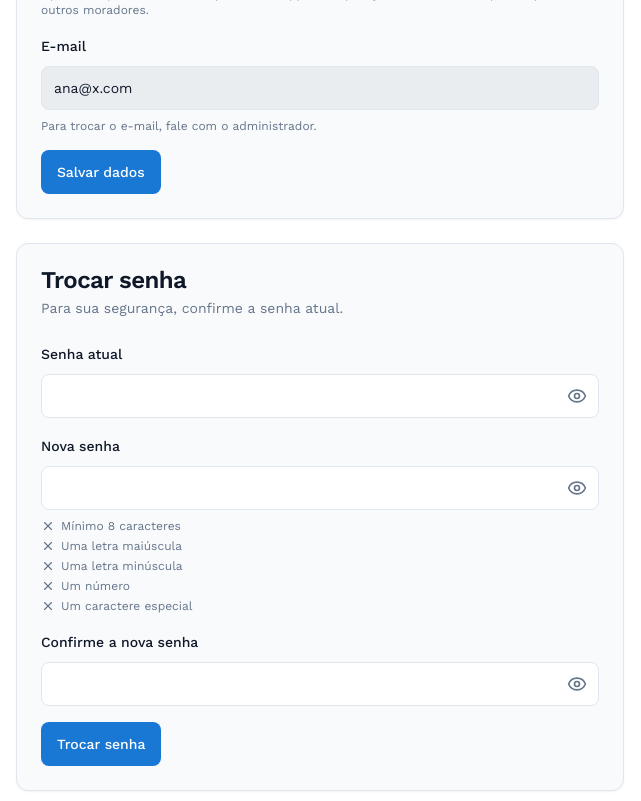
Scenario: MyProfilePage — trocar senha › não envia quando a confirmação não confere
(page scrolled)
Type "Atual@123" into the password field labelled "Senha atual". click: (320,396)
box: [41,374,599,418]
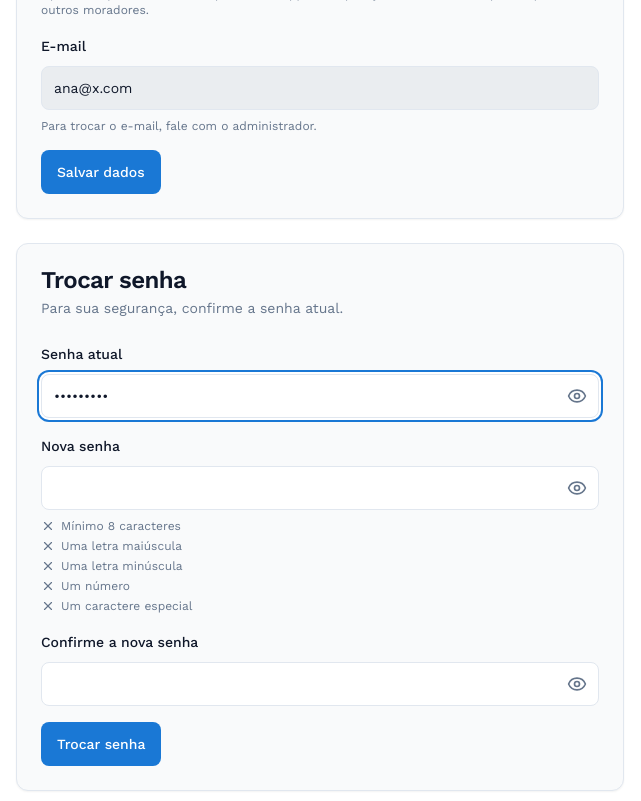
Type "Nova@Senha123" into the password field labelled "Nova senha". click: (320,488)
box: [41,466,599,510]
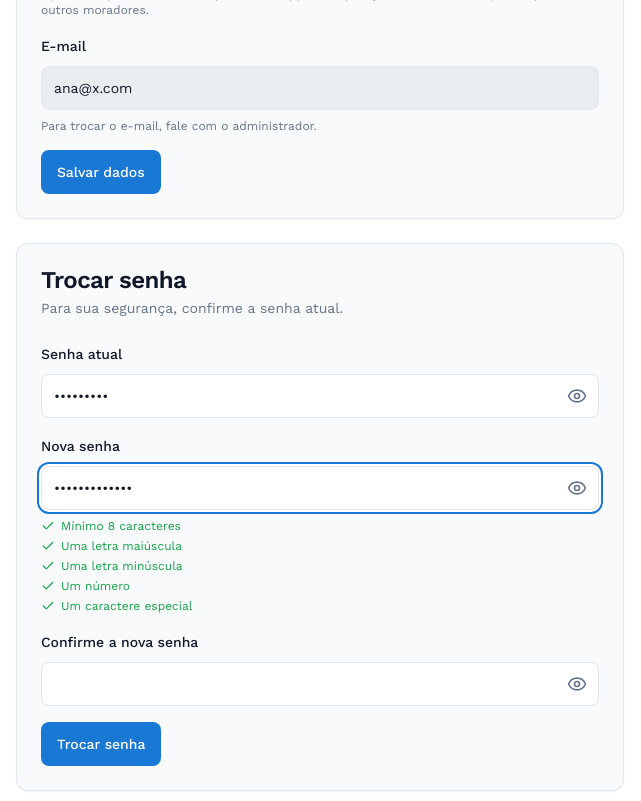
Type "Outra@Senha123" into the password field labelled "Confirme a nova senha". click: (320,684)
box: [41,662,599,706]
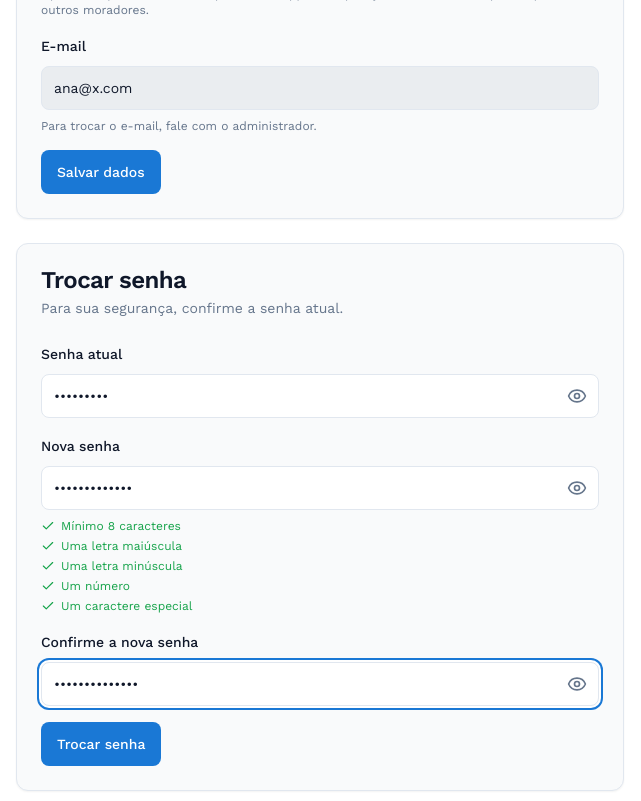
Click the button "Trocar senha". click: (101,744)
box: [41,722,161,766]
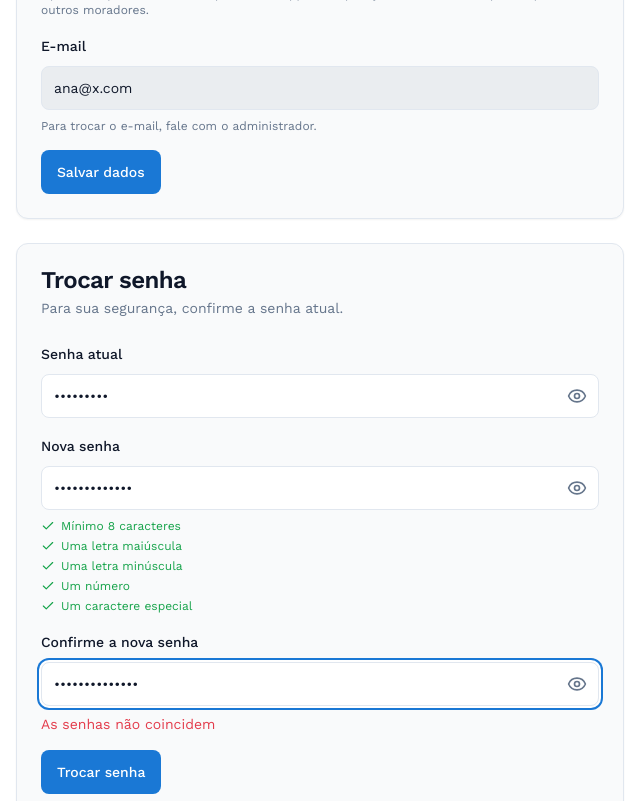
Check: the text "As senhas não coincidem" is shown, box [41,716,215,732]
